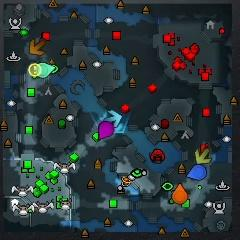Other: (27, 64, 41, 76)
p1: (187, 164, 207, 181)
p2: (37, 62, 54, 78)
p3: (99, 121, 113, 140)
p5: (172, 183, 188, 205)
x2: (195, 148, 211, 164)
x3: (104, 110, 122, 127)
x5: (30, 38, 44, 55)
